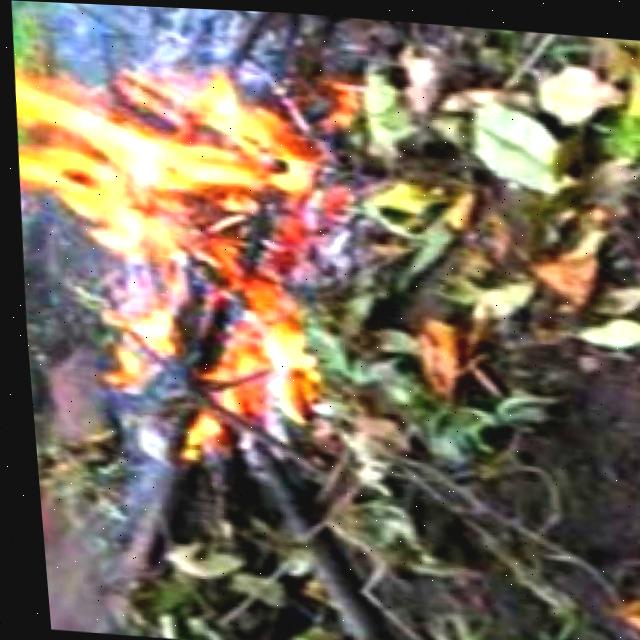Fire: (2, 34, 407, 483)
